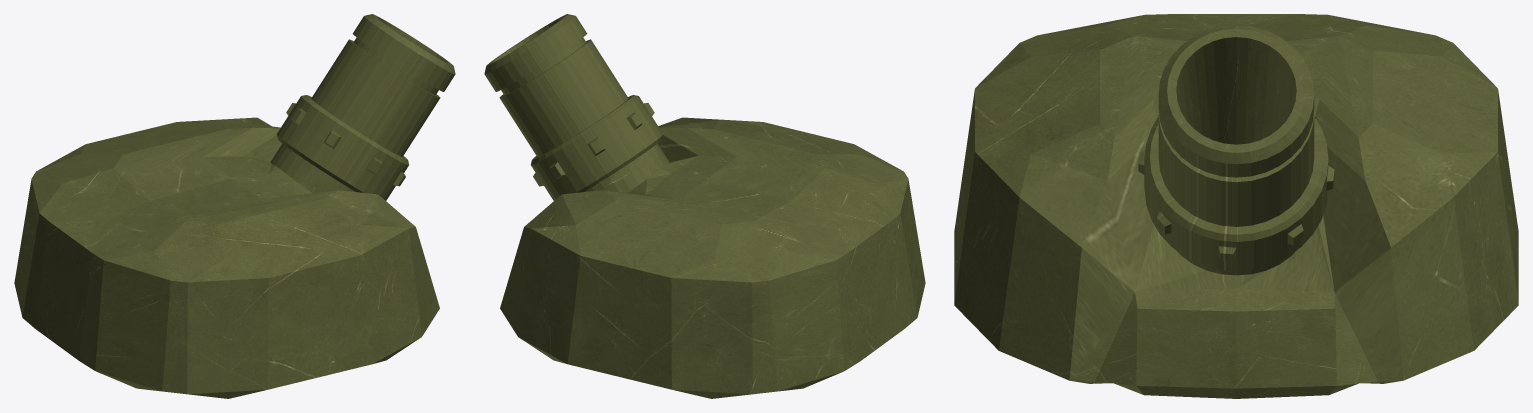
The model's file is Artillery.fbx.
3 renders of one model, left to right at view 1: azimuth 30°, elevation 25°; view 2: azimuth 150°, elevation 25°; view 3: azimuth 270°, elevation 25°, orthographic. The views are drawn at different scales.
Parts seen in each view (by area): view 1: Artillery; view 2: Artillery; view 3: Artillery.
Part boxes in pixels (x1=…): Artillery: x1=14, y1=14, x2=455, y2=398; Artillery: x1=484, y1=14, x2=925, y2=398; Artillery: x1=954, y1=14, x2=1518, y2=398.
Size of the model in its own units: 1016 by 751 by 892.
